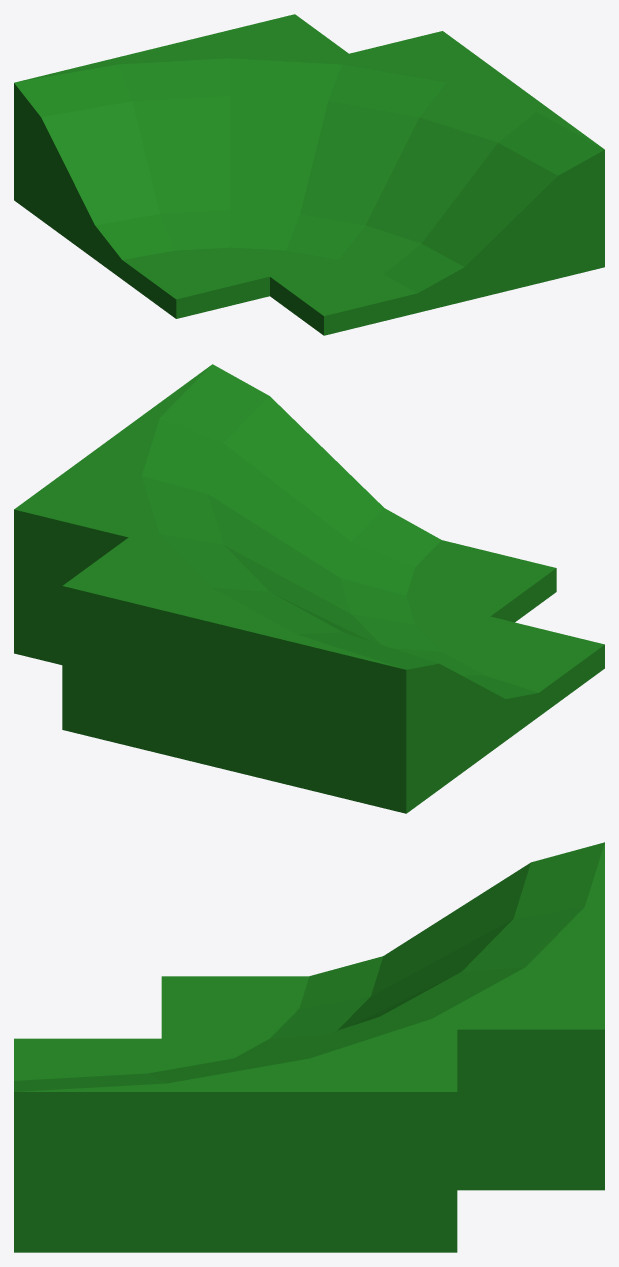
Rendered from grass_hill_corner_inner_x2.obj.
3 views of the same model, one above another, from view 1: azimuth 30°, elevation 25°; view 2: azimuth 150°, elevation 25°; view 3: azimuth 270°, elevation 25° (orthographic). The views are drawn at different scales.
Visible parts, largest first — view 1: grass_hill_corner_inner_x2_Circle.002; view 2: grass_hill_corner_inner_x2_Circle.002; view 3: grass_hill_corner_inner_x2_Circle.002.
Boxes of the visible parts, x1,y1,x2,y2 form: grass_hill_corner_inner_x2_Circle.002: [14, 14, 604, 335]; grass_hill_corner_inner_x2_Circle.002: [14, 364, 604, 813]; grass_hill_corner_inner_x2_Circle.002: [14, 842, 604, 1252].
Size of the model in its own units: 4 by 1.2 by 4.
